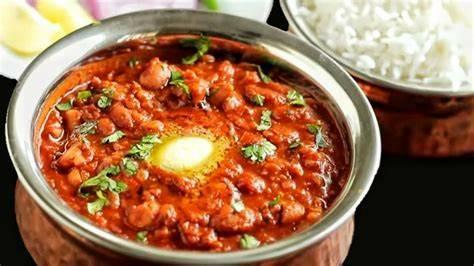RajmaCurry: (41, 38, 343, 253)
WhiteRice: (294, 0, 474, 91)
